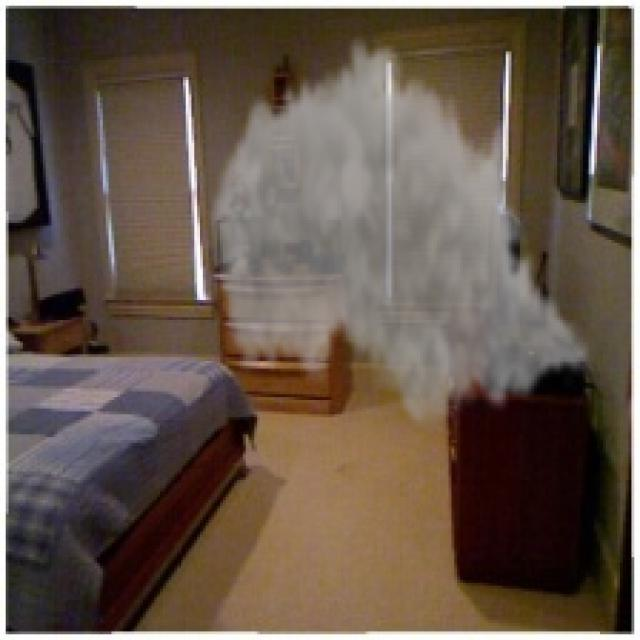smoke: (206, 29, 594, 437)
